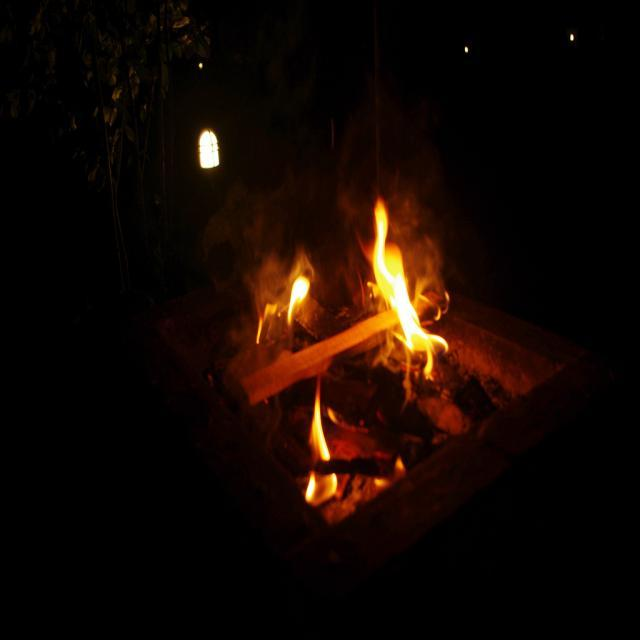Fire: (390, 252, 422, 348), (284, 272, 308, 311)
